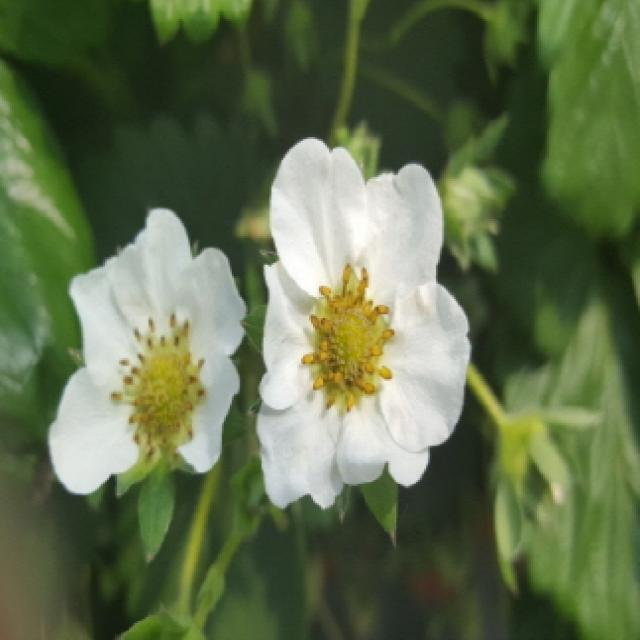Blossom Blight: (106, 307, 214, 470), (299, 260, 401, 419)
